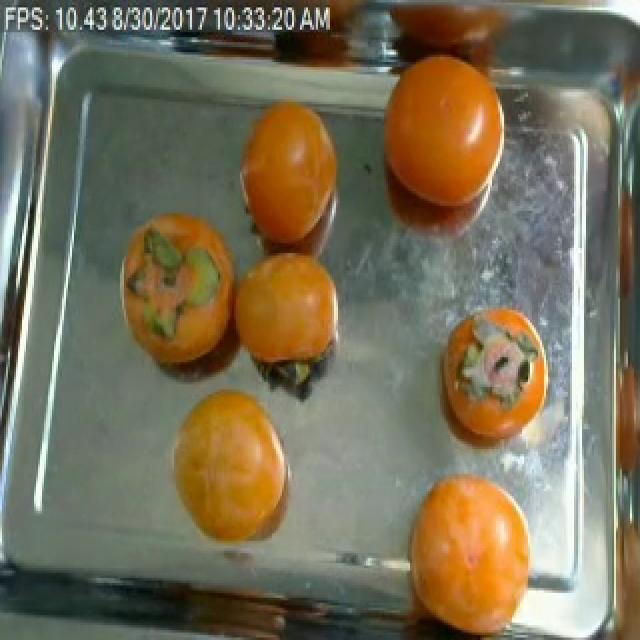Fruit: (154, 367, 308, 581), (370, 32, 510, 251), (390, 456, 550, 640), (108, 198, 246, 384), (224, 82, 356, 268), (428, 290, 554, 477)
